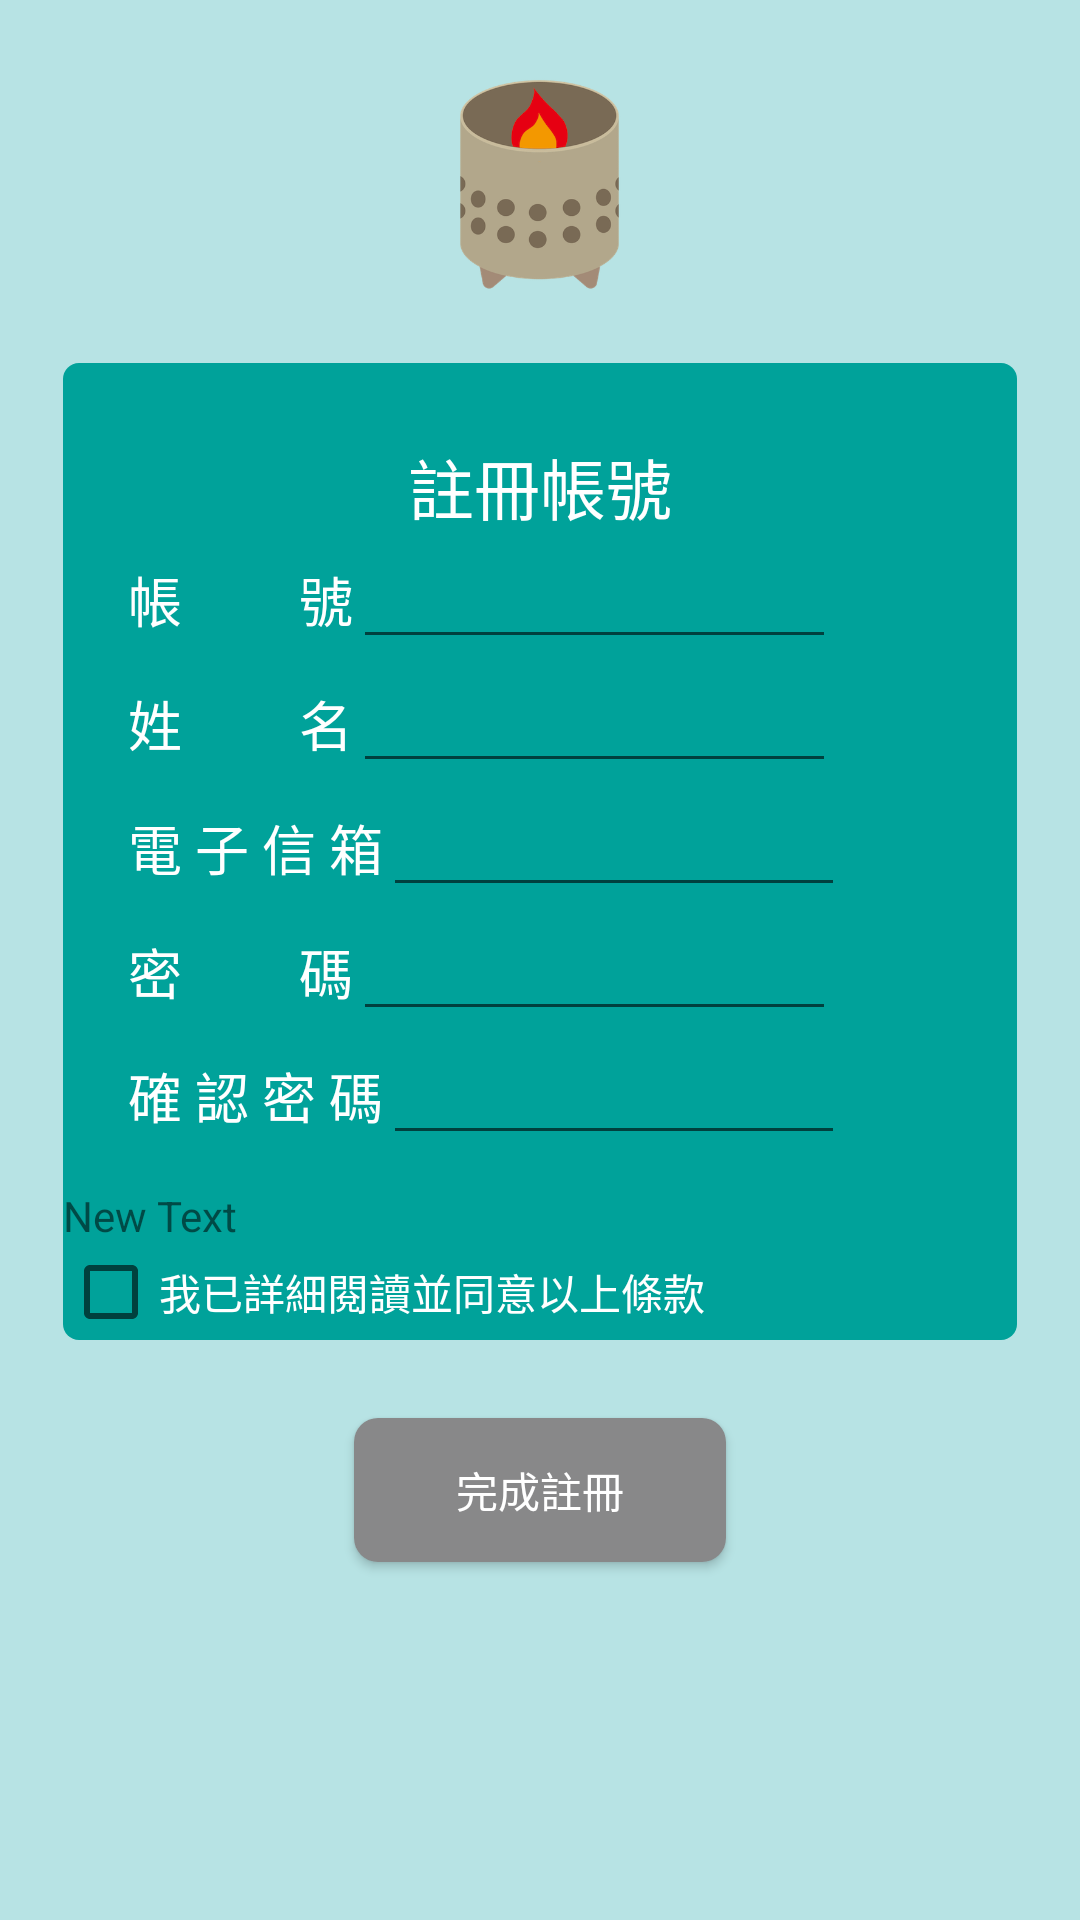

Icon click points for this 1080px x 1920px phone screenshot, format (x,y):
burner: (539,184)
